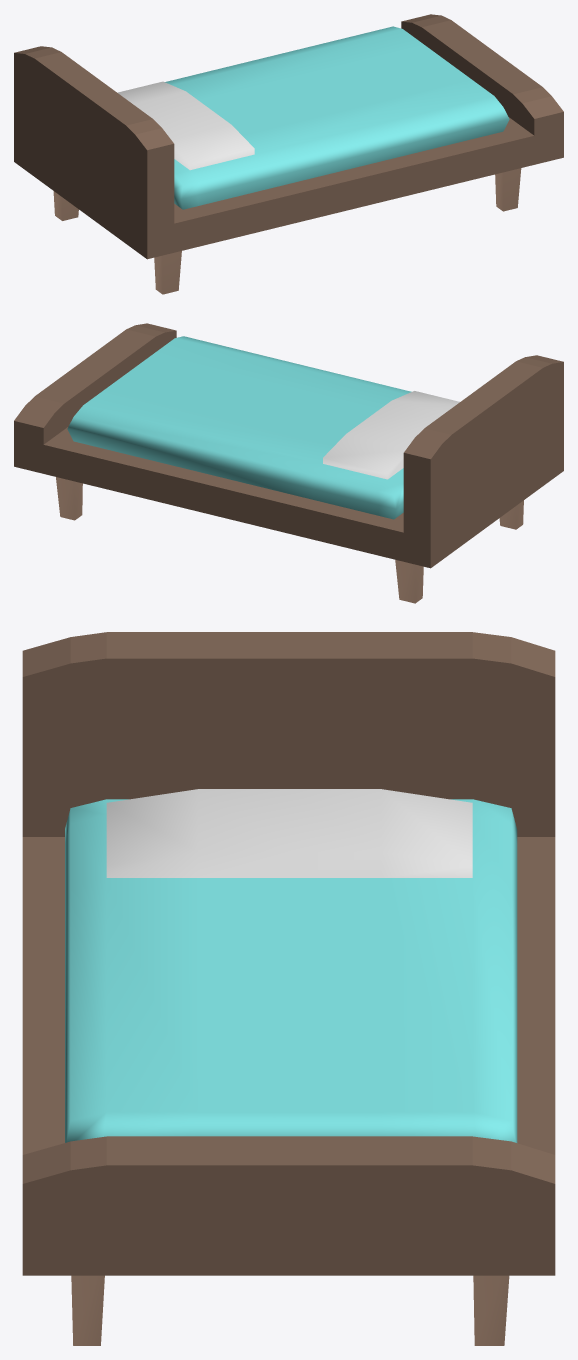
Rendered from better_bed.fbx.
3 renders of one model, top to bottom at view 1: azimuth 30°, elevation 25°; view 2: azimuth 150°, elevation 25°; view 3: azimuth 270°, elevation 25°, orthographic. The views are drawn at different scales.
Visible parts, largest first — view 1: Cube.001, Cube; view 2: Cube.001, Cube; view 3: Cube.001, Cube.
Boxes of the visible parts, box(x1,y1,x2,y2) form: Cube.001: box(14, 14, 563, 259); Cube: box(53, 26, 521, 294); Cube.001: box(14, 323, 563, 568); Cube: box(56, 336, 523, 603); Cube.001: box(22, 632, 555, 1275); Cube: box(65, 789, 517, 1345).
Size of the model in its own units: 798 by 311 by 442.
